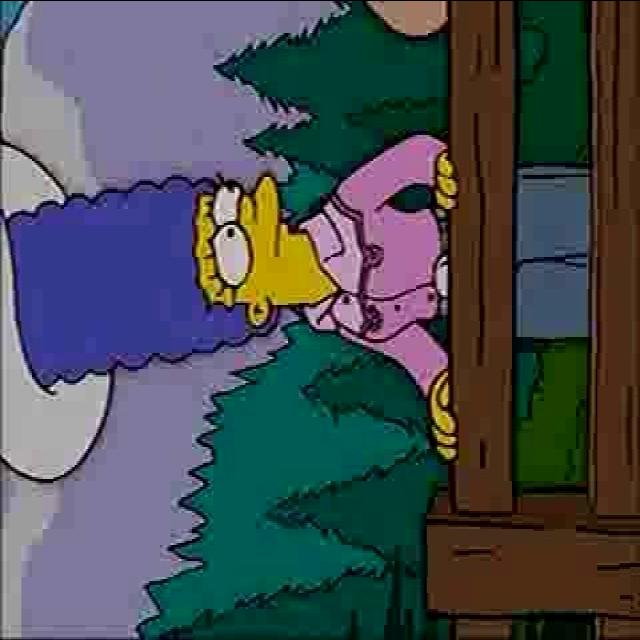Marge Simpson: (14, 171, 342, 385)
